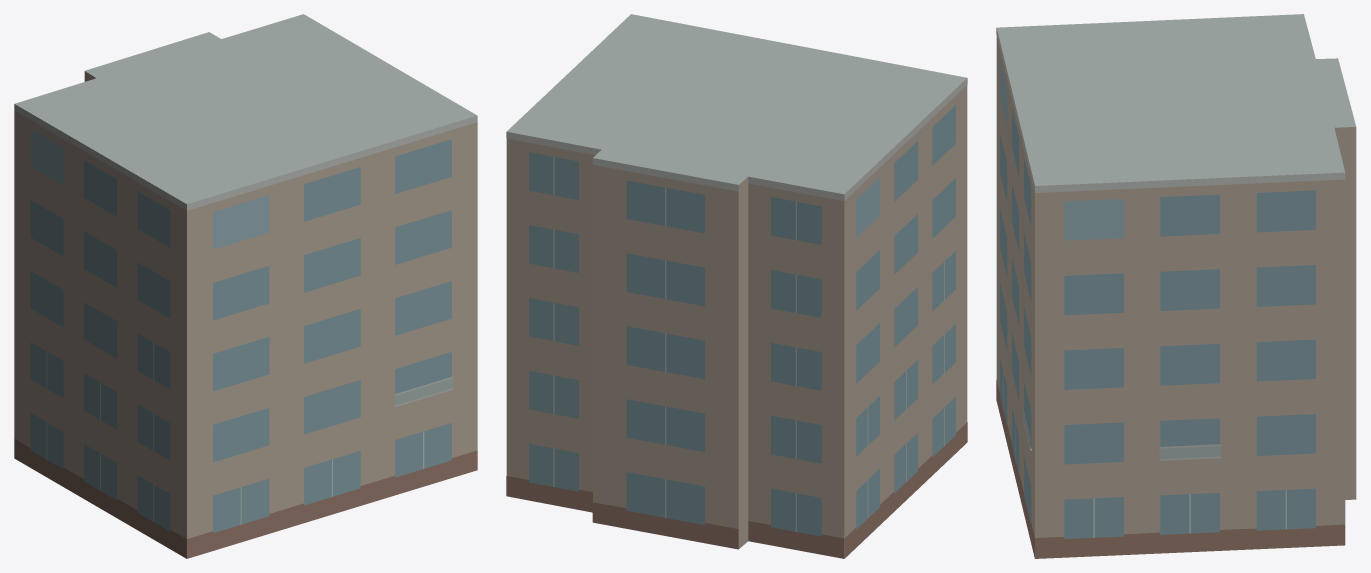
File: survey-upis-33038248.glb
3 renders of one model, left to right at view 1: azimuth 30°, elevation 25°; view 2: azimuth 150°, elevation 25°; view 3: azimuth 270°, elevation 25°, orthographic. The views are drawn at different scales.
Parts seen in each view (by area): view 1: survey-upis-33038248.tmp; view 2: survey-upis-33038248.tmp; view 3: survey-upis-33038248.tmp.
Boxes of the visible parts, x1,y1,x2,y2 form: survey-upis-33038248.tmp: (14,14,477,558); survey-upis-33038248.tmp: (506,14,967,558); survey-upis-33038248.tmp: (996,14,1356,558).
Size of the model in its own units: 12.98 by 13.1 by 11.47.
